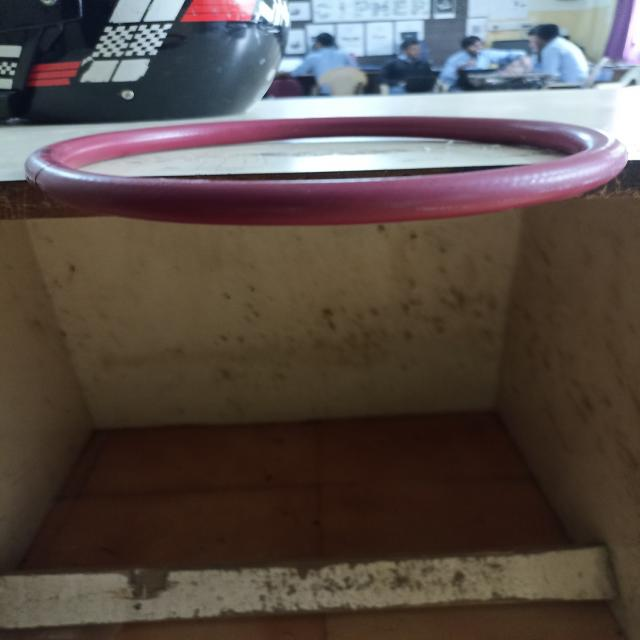daire: (30, 109, 624, 223)
